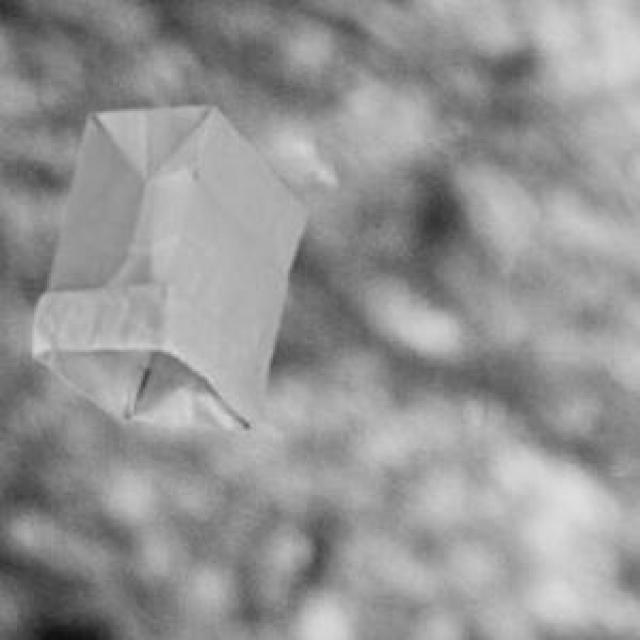paper: (30, 102, 301, 427)
